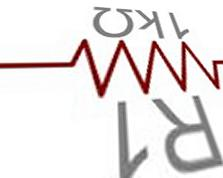resistor: (61, 36, 221, 96)
